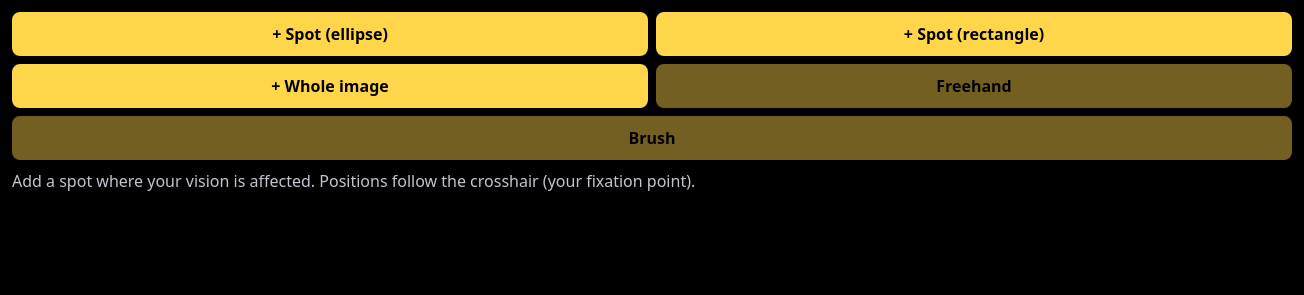
Test: RegionsPanel › adds an ellipse at the fixation point and selects it
Click the button "+ Spot (ellipse)" at (330, 34), box [12, 12, 648, 56]
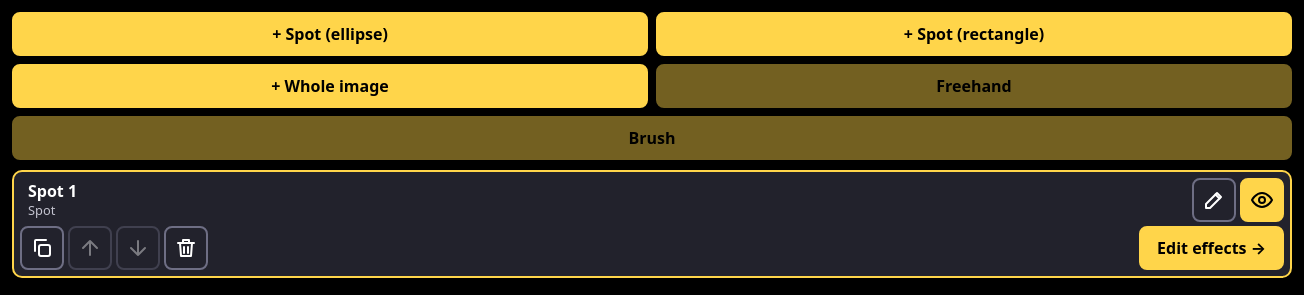
Check: the text "Spot 1" is shown, box [28, 180, 77, 202]
Check: the text "Add a spot where" is gone
